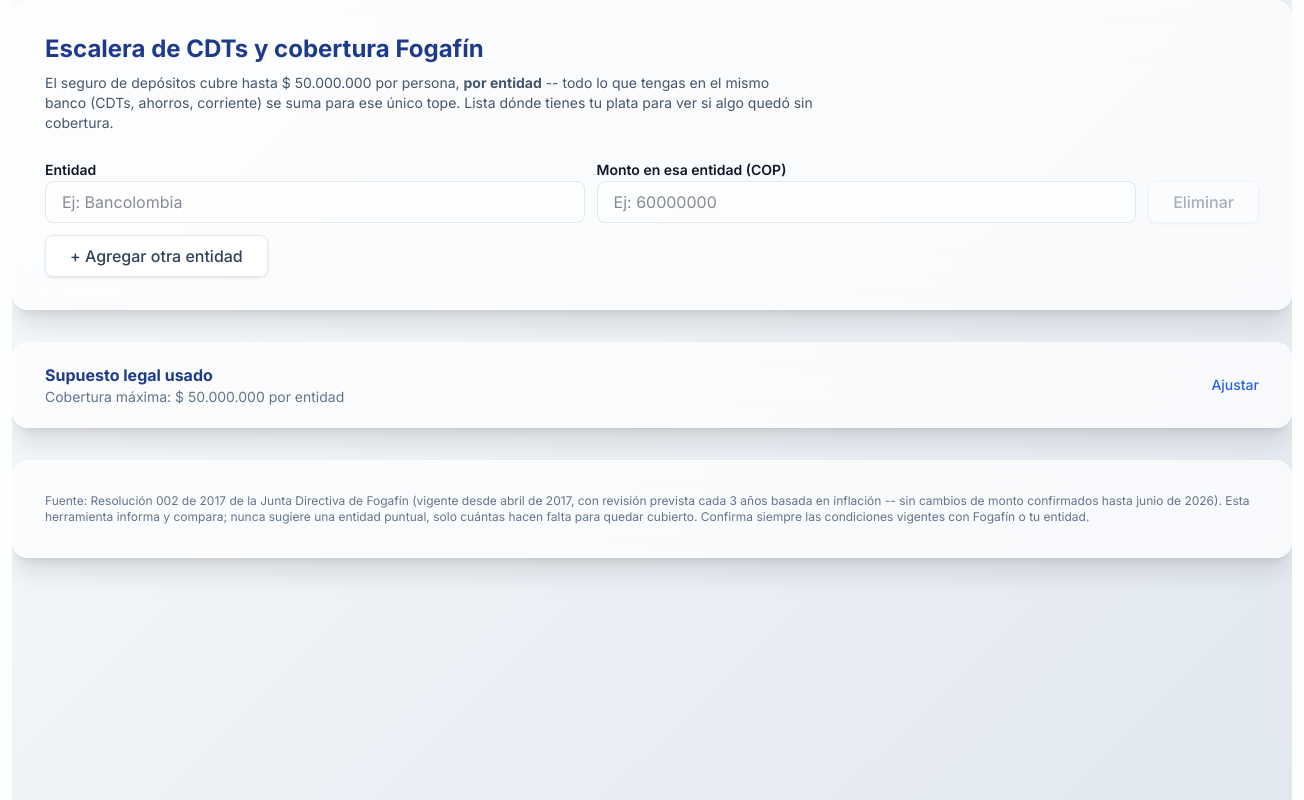
Test case: EscaleraCDTsFogafin › agregar otra entidad crea una fila nueva, con etiqueta accesible aunque no se vea
Click the button "+ Agregar otra entidad": point(156, 256) [45,235,268,277]
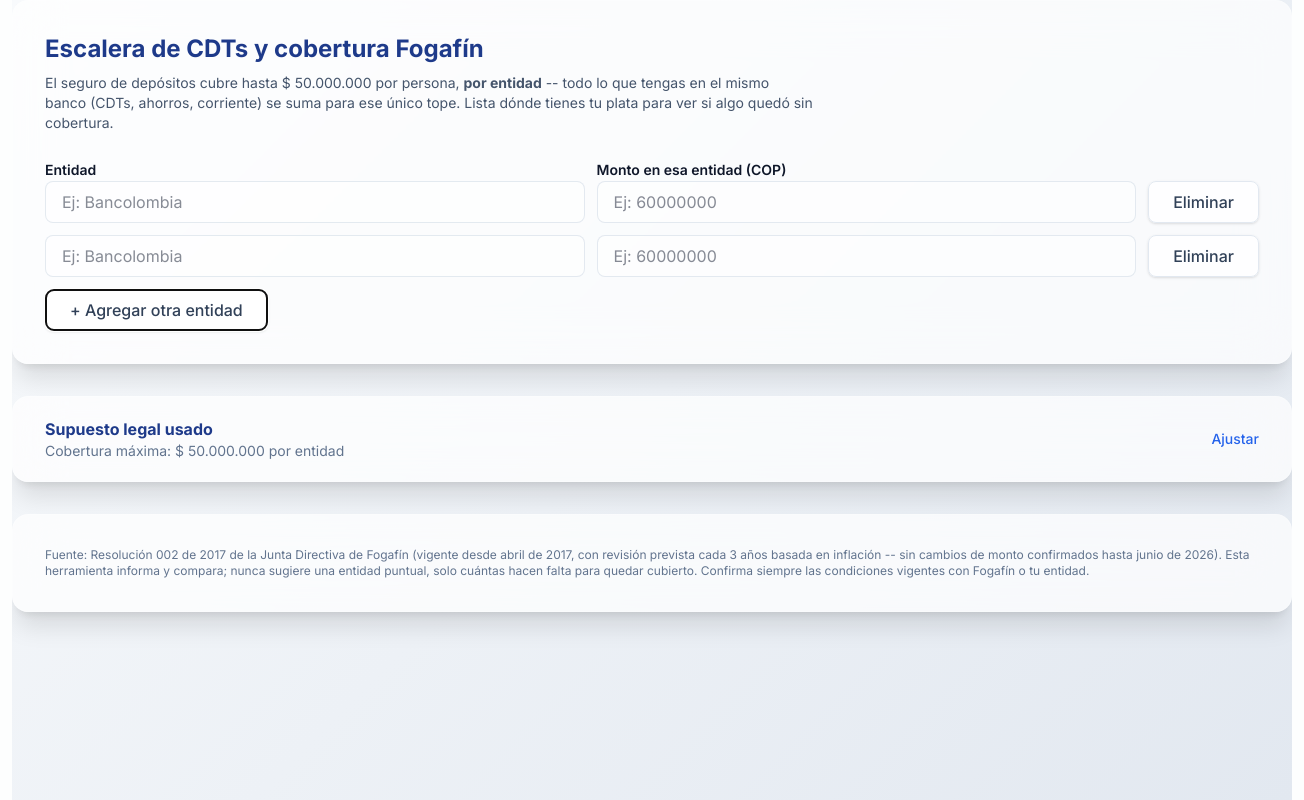
Expected: the number of fields labelled "Entidad" is 2, [45,181,585,223]; [45,235,585,277]
Expected: the number of fields is 2, [45,181,585,223]; [45,235,585,277]
